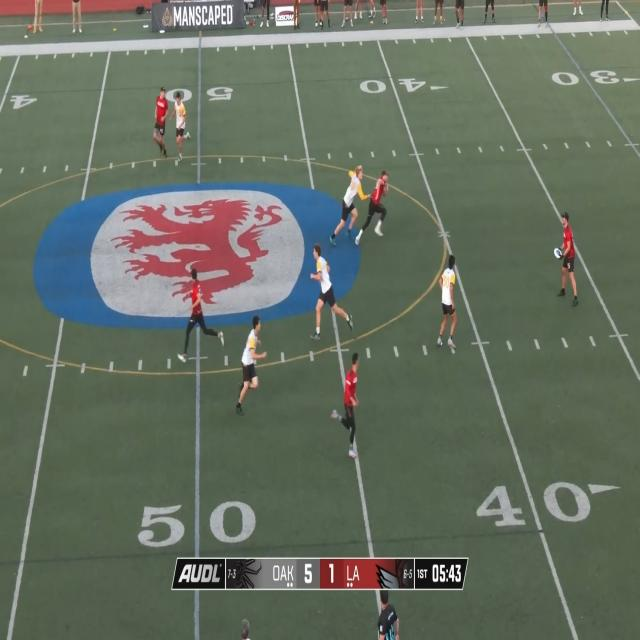Disc: (554, 248, 562, 258)
Player: (306, 242, 352, 340), (179, 282, 225, 359), (235, 315, 268, 417), (330, 165, 370, 241), (337, 354, 362, 453), (556, 210, 582, 303), (357, 172, 390, 242), (438, 262, 460, 352), (171, 92, 189, 162), (154, 87, 167, 158)
